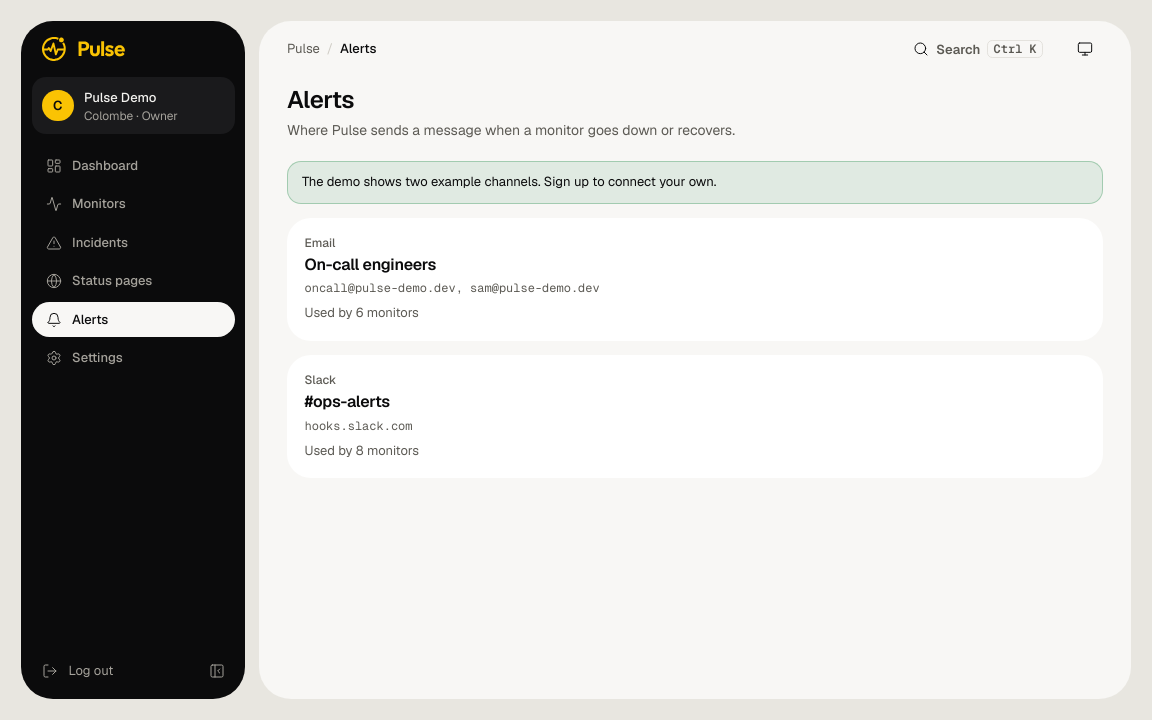
Test: AppShell › collapses the sidebar to icons and remembers it
Click the button named "Collapse sidebar": (217, 671) [200,654,234,688]
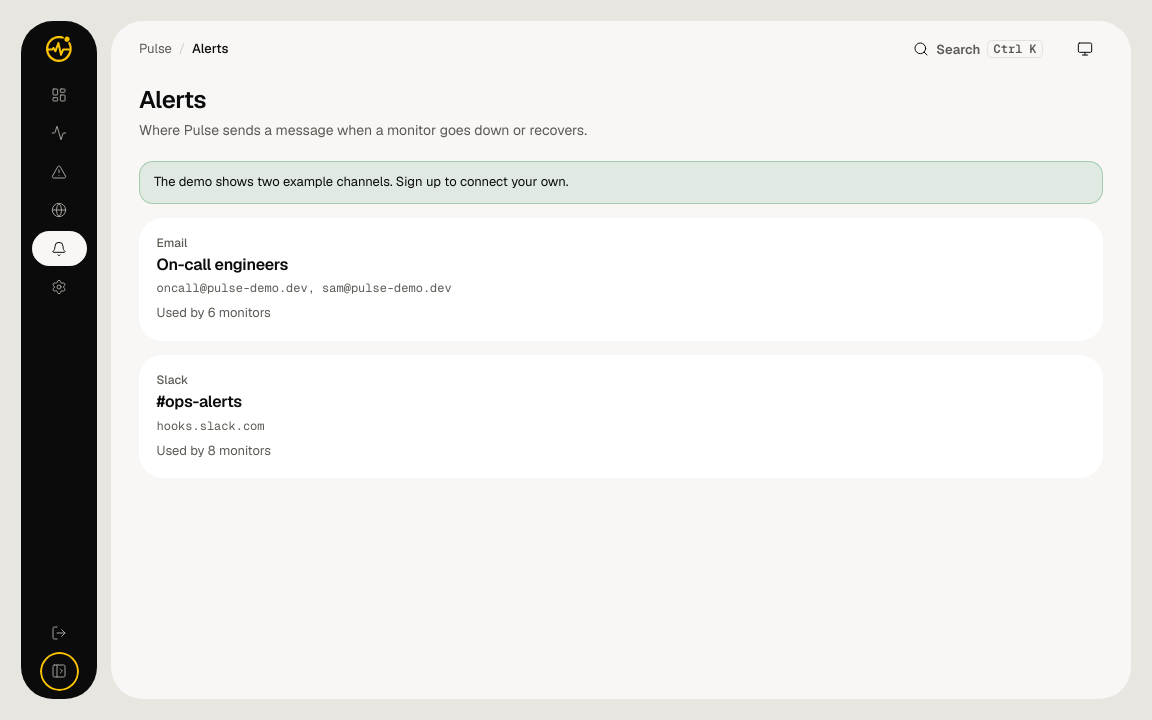
Check: the link named "Alerts" is shown, box [32,231,86,266]
Check: the button named "Expand sidebar" is collapsed, box [42,654,76,688]
